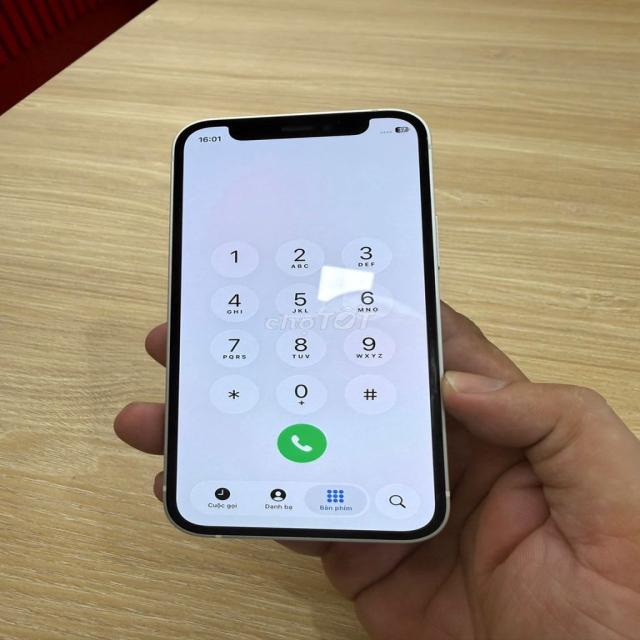gen_12_13: (165, 111, 455, 538)
